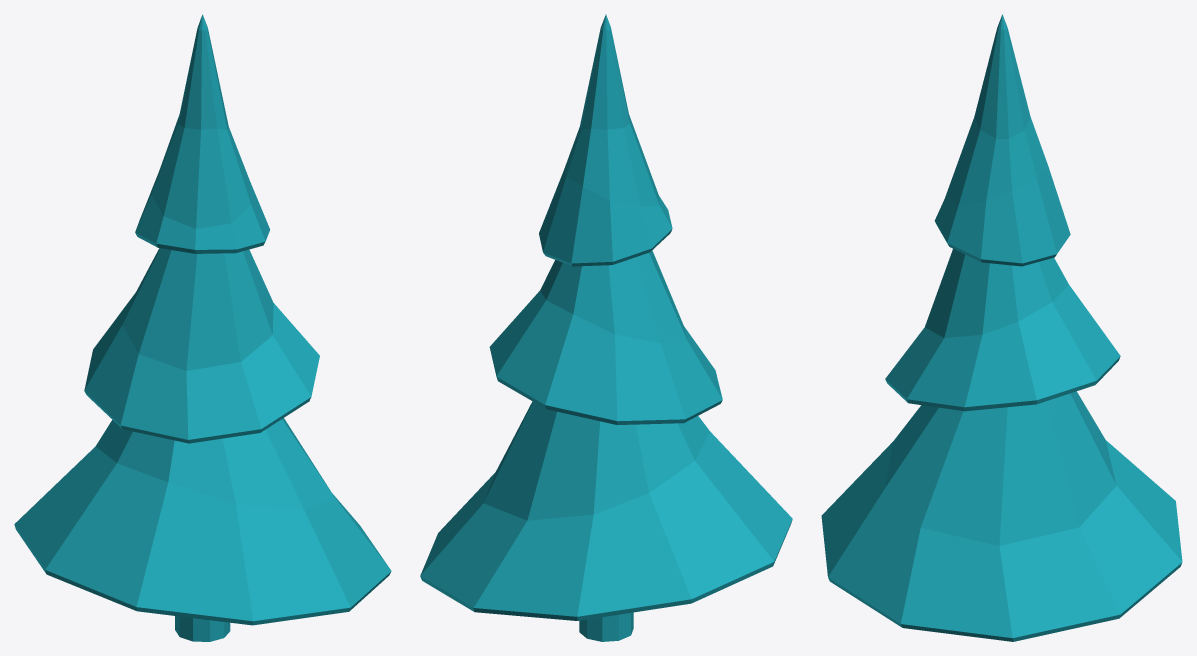
File: s_tree.fbx
3 renders of one model, left to right at view 1: azimuth 30°, elevation 25°; view 2: azimuth 150°, elevation 25°; view 3: azimuth 270°, elevation 25°, orthographic.
Visible parts, largest first — view 1: tree; view 2: tree; view 3: tree.
Boxes of the visible parts, box(x1,y1,x2,y2) form: tree: box(14, 14, 391, 641); tree: box(420, 14, 792, 641); tree: box(821, 14, 1182, 641).
Bounding box in the file's own units: 0.8531 × 1.54 × 0.8326.
